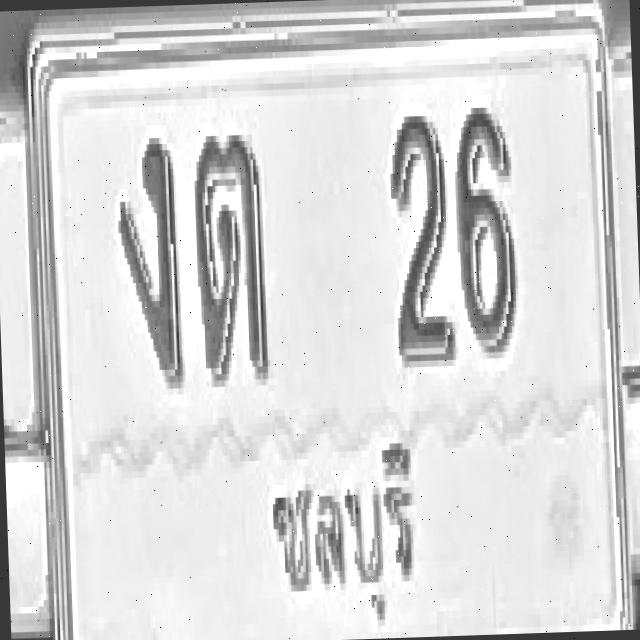16NgorNgu: (114, 130, 182, 384)
2: (387, 108, 453, 362)
30TorTao: (192, 127, 270, 380)
6: (452, 100, 518, 352)
Chonburi: (240, 417, 452, 629)
